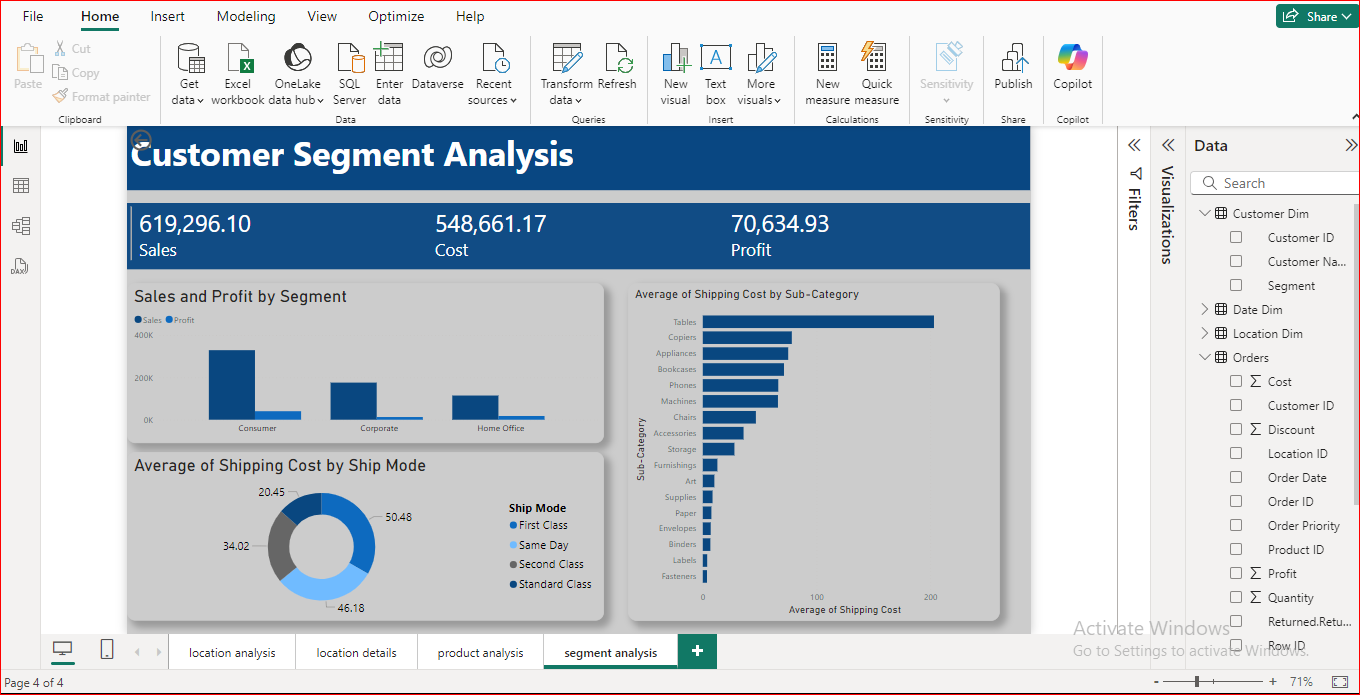

The dashboard page shown, as its layout file describes it:
{"tool":"powerbi","page":{"name":"segment analysis","canvas":[1280,720],"ordinal":3},"visuals":[{"type":"textbox","box":[0,0,1280,91.1],"z":0},{"type":"multiRowCard","fields":{"Values":["Sum(Orders.Sales)","Sum(Orders.Cost)","Sum(Orders.Profit)"]},"box":[0,109.6,1280,94.4],"z":1000},{"type":"actionButton","box":[0,0,100,40],"z":2000},{"type":"clusteredColumnChart","fields":{"Y":["Sum(Orders.Sales)","Sum(Orders.Profit)"],"Category":["Customer Dim.Segment"]},"box":[0,222.5,676.1,226.8],"z":3000},{"type":"donutChart","fields":{"Y":["Avg(Orders.Shipping Cost)"],"Category":["Orders.Ship Mode"]},"box":[0,462.1,676.3,239.5],"z":4000},{"type":"clusteredBarChart","fields":{"Y":["Avg(Orders.Shipping Cost)"],"Category":["Product Dim.Category Hierarchy.Category","Product Dim.Category Hierarchy.Sub-Category","Product Dim.Category Hierarchy.Product ID"]},"box":[710.1,222.5,527.2,479.1],"z":5000}]}

Visuals, with their boxes on the page's 1280x720 design canvas (x1, y1, x2, y2). These are canvas units, not pixel positions in the 1360x695 screenshot, which may show the page scaled, cropped or inside an application window:
textbox: Rect(0, 0, 1280, 91)
multiRowCard - Sum(Orders.Sales) x Sum(Orders.Cost): Rect(0, 110, 1280, 204)
actionButton: Rect(0, 0, 100, 40)
clusteredColumnChart - Sum(Orders.Sales) x Sum(Orders.Profit): Rect(0, 222, 676, 449)
donutChart - Avg(Orders.Shipping Cost) x Orders.Ship Mode: Rect(0, 462, 676, 702)
clusteredBarChart - Avg(Orders.Shipping Cost) x Product Dim.Category Hierarchy.Category: Rect(710, 222, 1237, 702)
